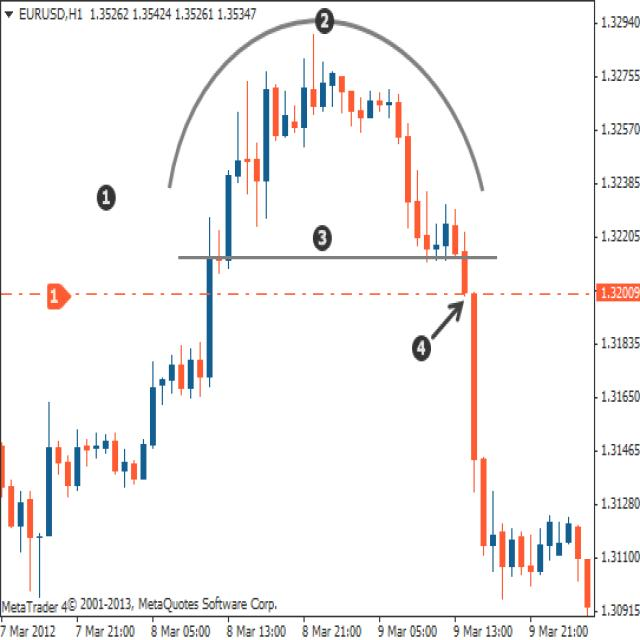Rounding-Top: (204, 52, 481, 252)
